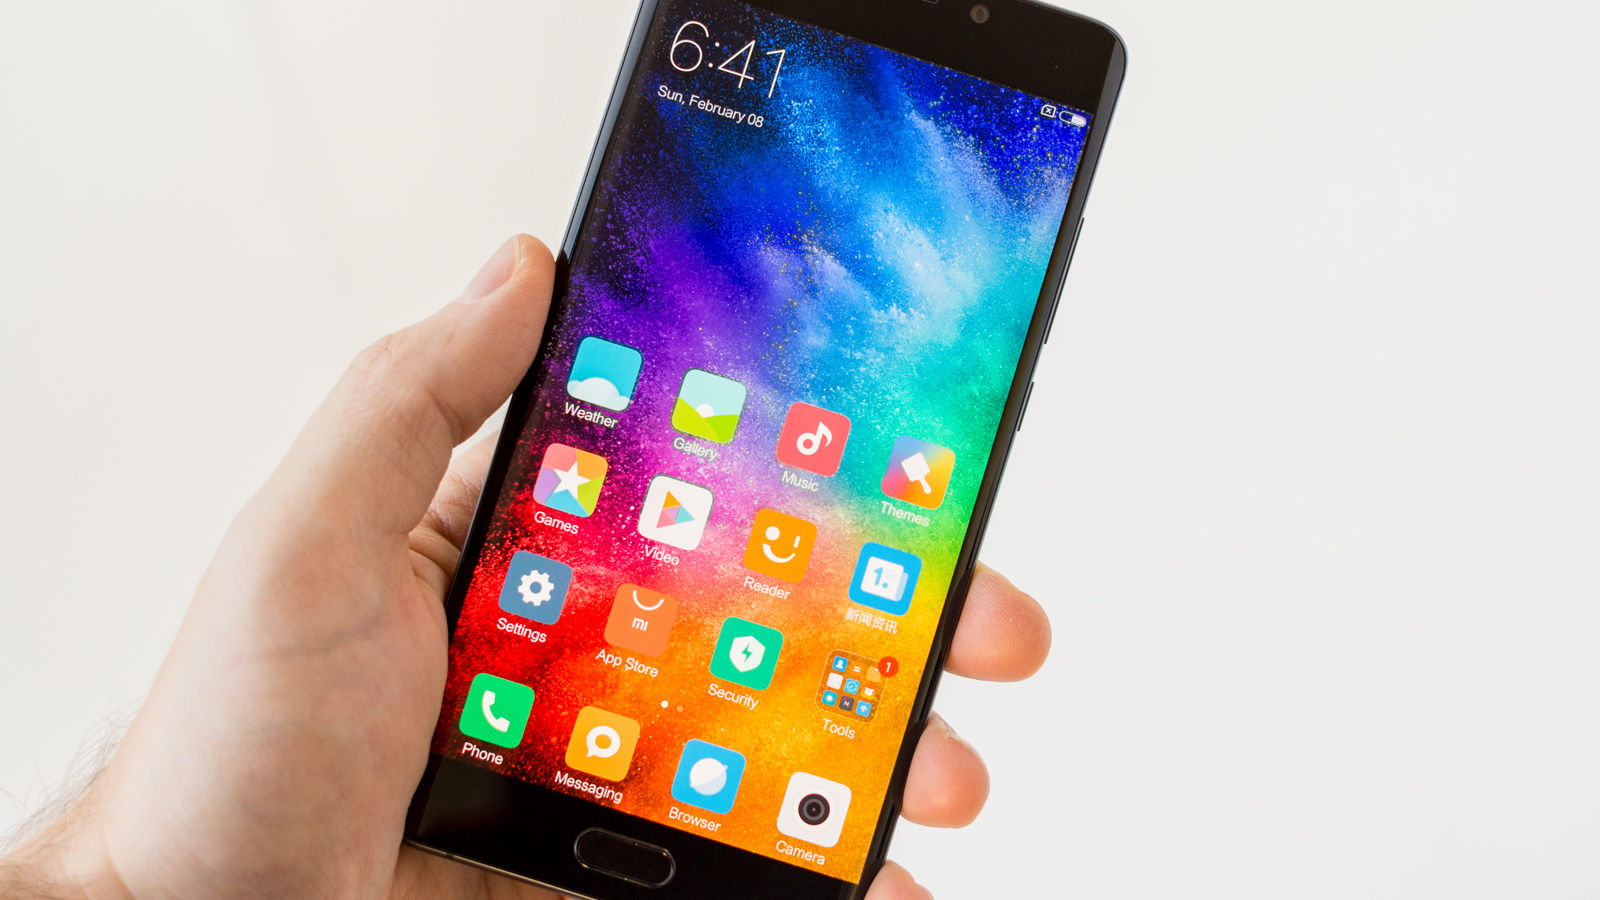smartphone: (402, 1, 1127, 900)
